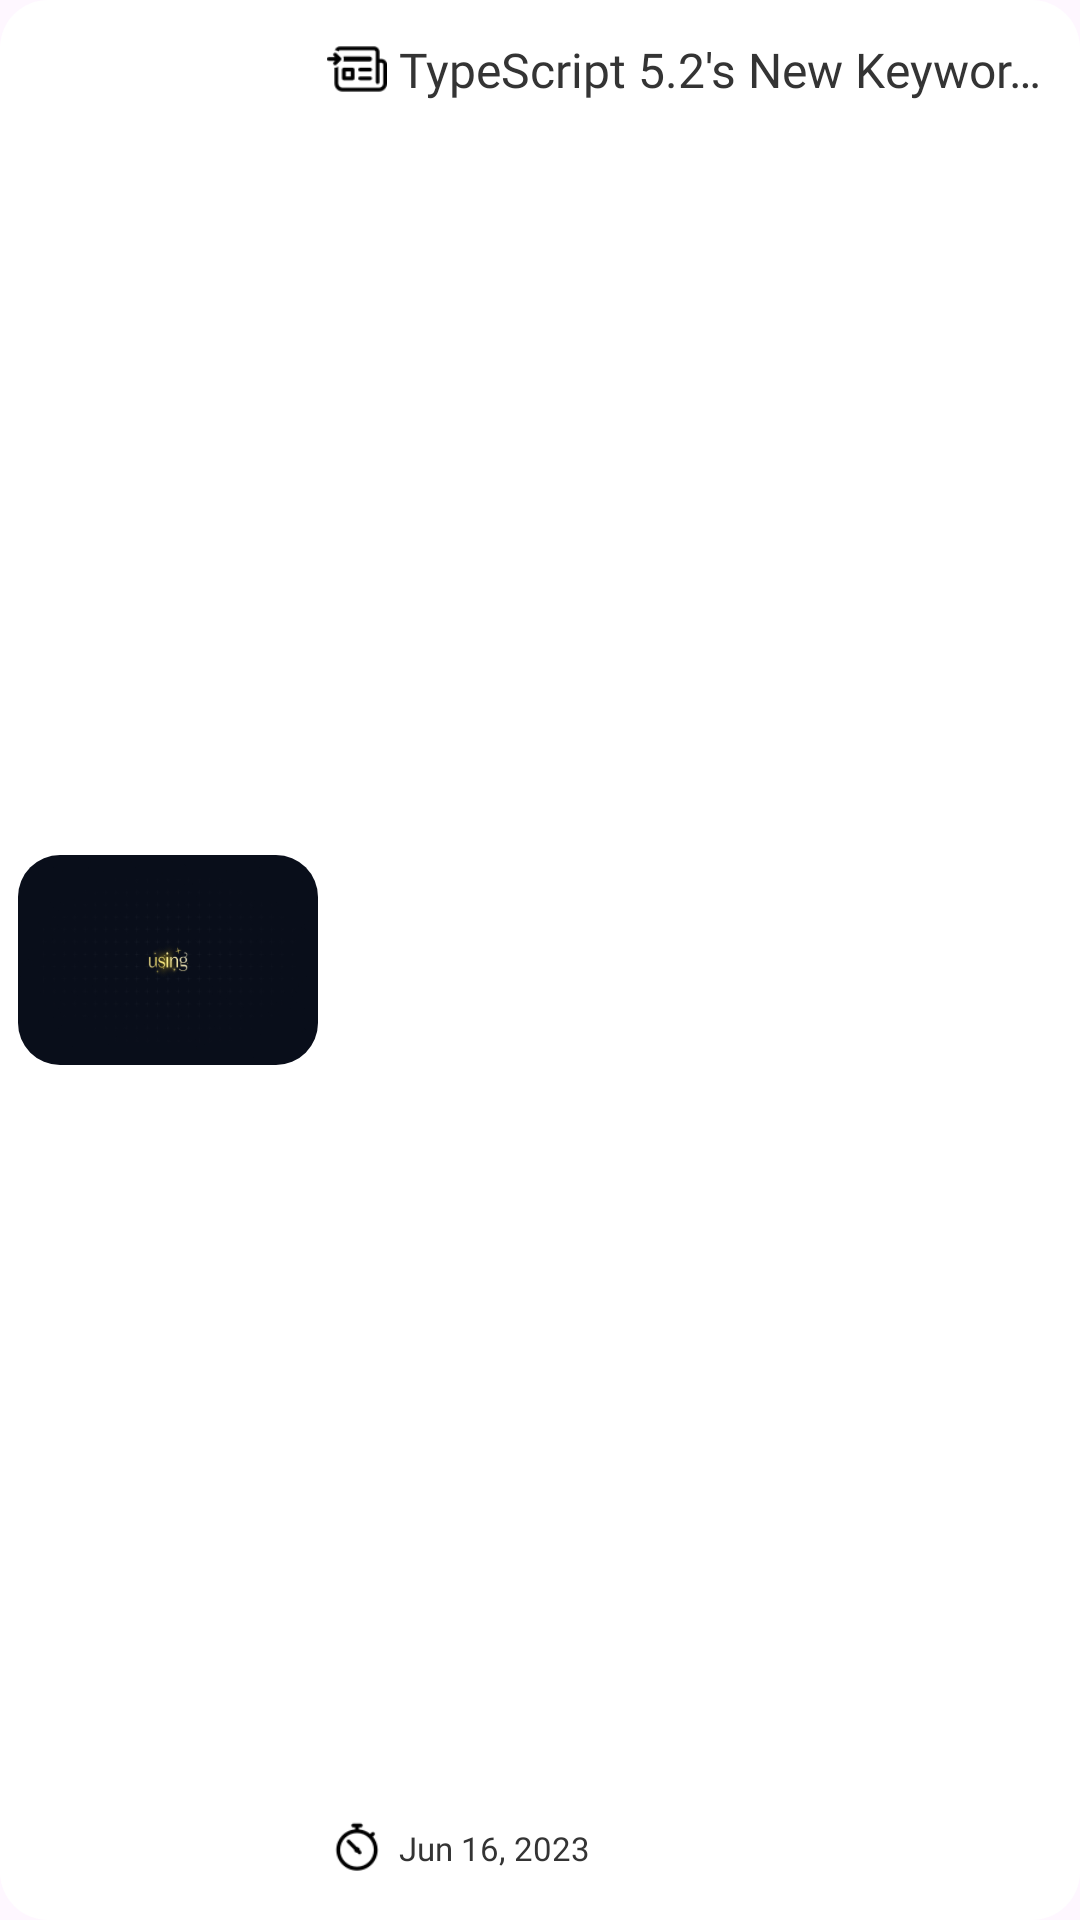

Icon bounding boxes for this 1080w x 1920h phone screenshot, format (x1, y1, x2, y2):
Icon Headline: (327, 46, 387, 92)
Icon Time: (335, 1823, 378, 1871)
Image Project: (18, 855, 318, 1065)
